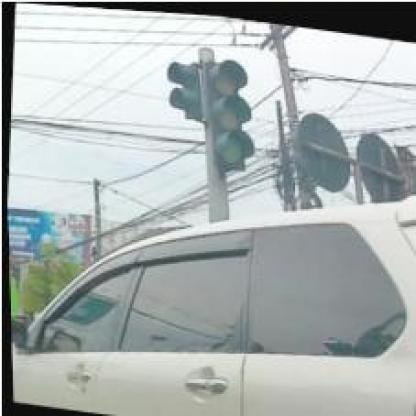green: (192, 53, 258, 171)
